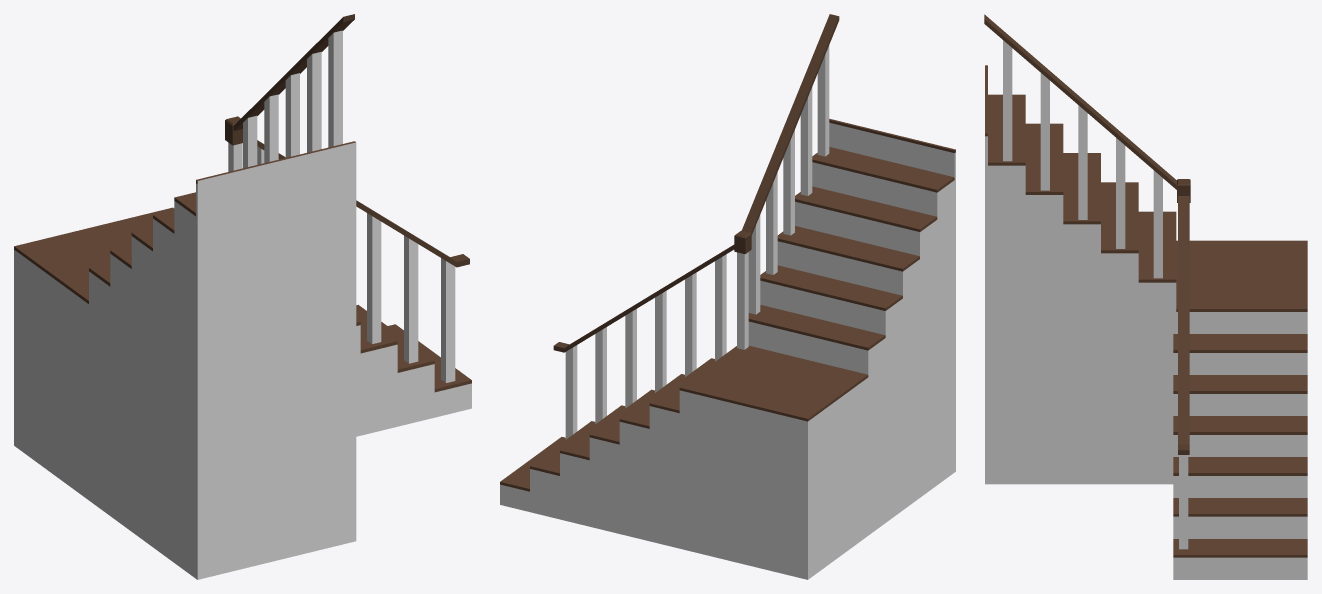
File: Stairs2_C2.fbx
3 renders of one model, left to right at view 1: azimuth 30°, elevation 25°; view 2: azimuth 150°, elevation 25°; view 3: azimuth 270°, elevation 25°, orthographic. The views are drawn at different scales.
Visible parts, largest first — view 1: Stairs2_C2; view 2: Stairs2_C2; view 3: Stairs2_C2.
Part boxes in pixels (left/top/right/bottom): Stairs2_C2: left=14, top=14, right=471, bottom=579; Stairs2_C2: left=500, top=14, right=955, bottom=579; Stairs2_C2: left=984, top=14, right=1307, bottom=579.
Bounding box in the file's own units: 301 × 397 × 251.
